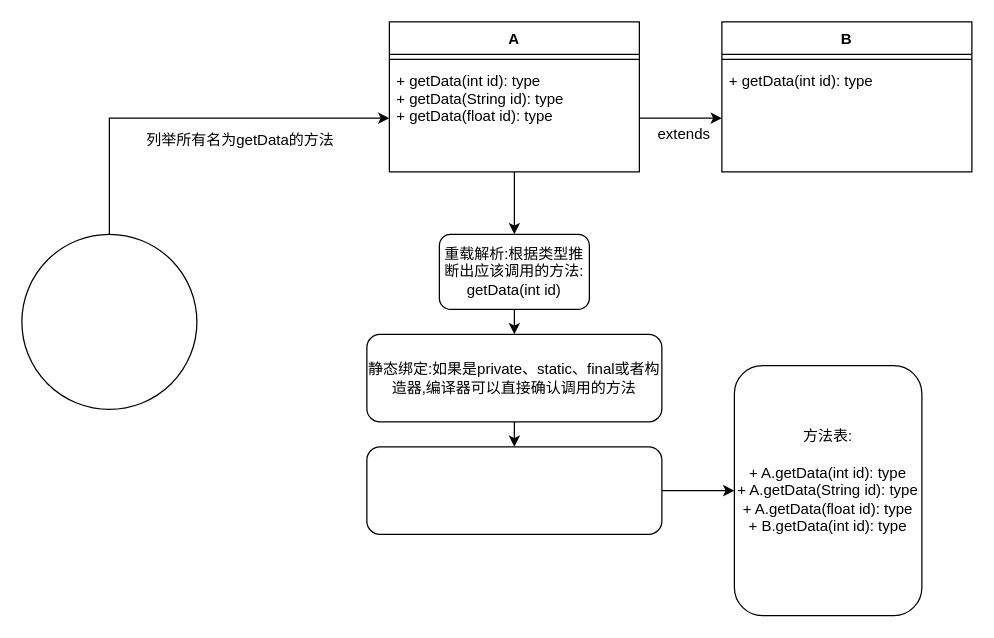
Some shapes in this 994 by 638 pixel diagram are drawn without their labels. The centre of each missing label's shape, as x and y in pixels:
"B a = new A(); a.getData(1);" goes at [109,321].
"这里a变量实际的类型为A，在类A中已经覆写了getData(int id)方法，此时将直接调用 A.getData(int id);否则从继续寻找父类方法" goes at [514,490].
